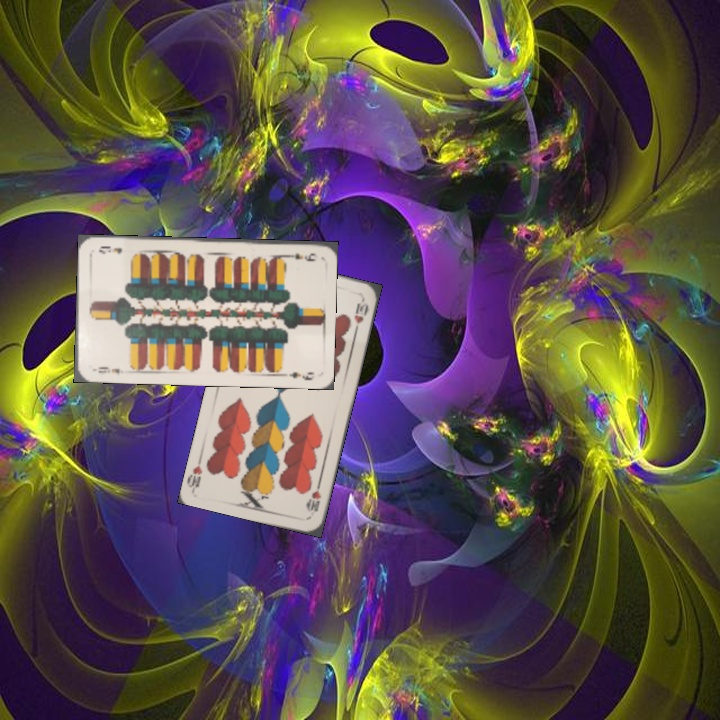E9: (281, 249, 321, 264), (95, 362, 122, 376)
H10: (303, 479, 324, 514)
